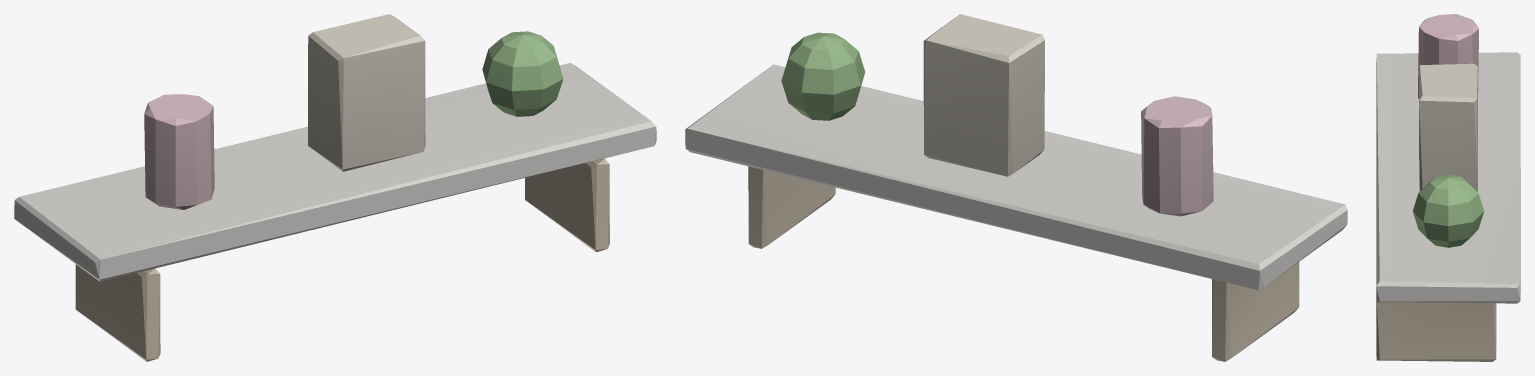
Rendered from furn_wall_shelf__white_low.glb.
3 views of the same model, side by side, from view 1: azimuth 30°, elevation 25°; view 2: azimuth 150°, elevation 25°; view 3: azimuth 270°, elevation 25° (orthographic). The views are drawn at different scales.
Size of the model in its own units: 0.9 by 0.36 by 0.2357.
